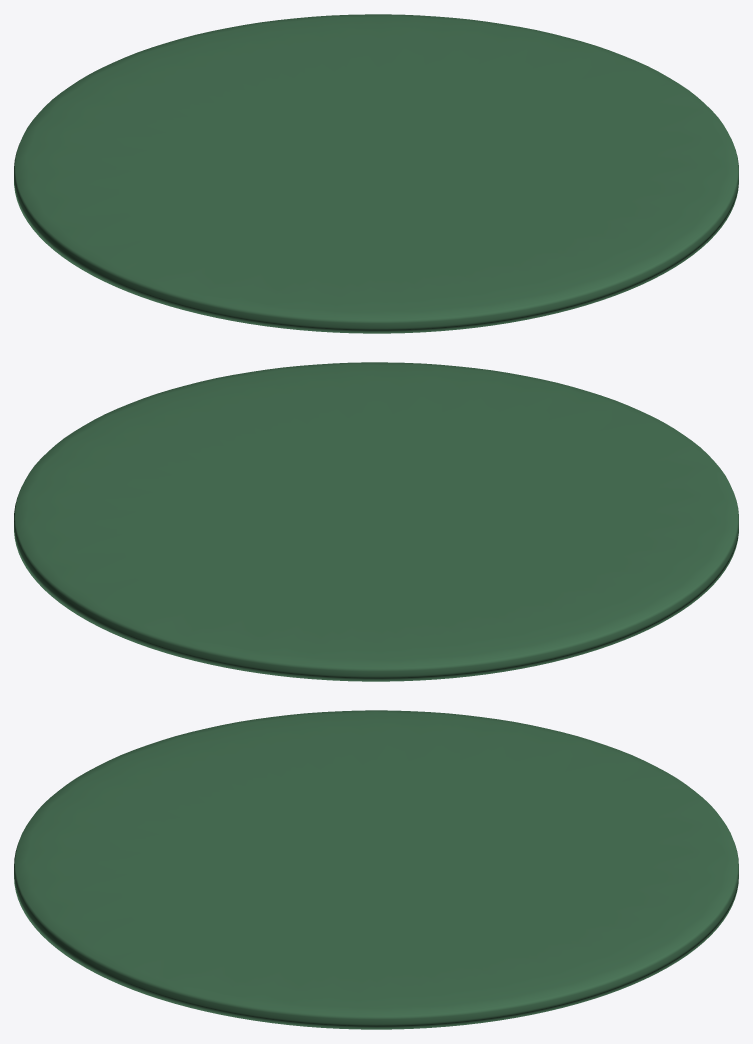
File: field.fbx
The picture shows the model from 3 angles, top to bottom: view 1: azimuth 30°, elevation 25°; view 2: azimuth 150°, elevation 25°; view 3: azimuth 270°, elevation 25°; orthographic projection.
Parts seen in each view (by area): view 1: 円柱.001; view 2: 円柱.001; view 3: 円柱.001.
Boxes of the visible parts, x1,y1,x2,y2 form: 円柱.001: (14, 14, 738, 333); 円柱.001: (14, 362, 738, 681); 円柱.001: (14, 710, 738, 1029).
Bounding box in the file's own units: 1372 × 38.66 × 1372.
